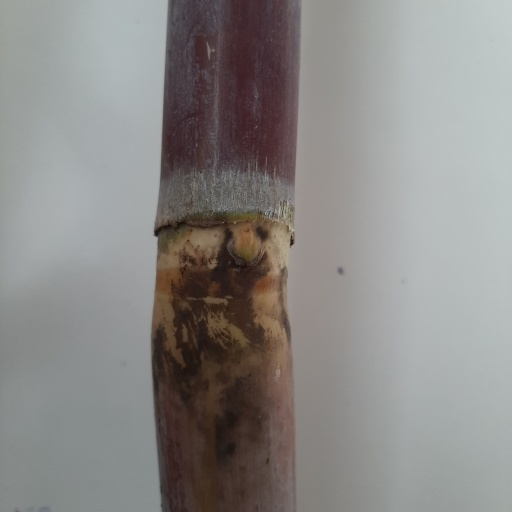Bud: (230, 225, 263, 265)
